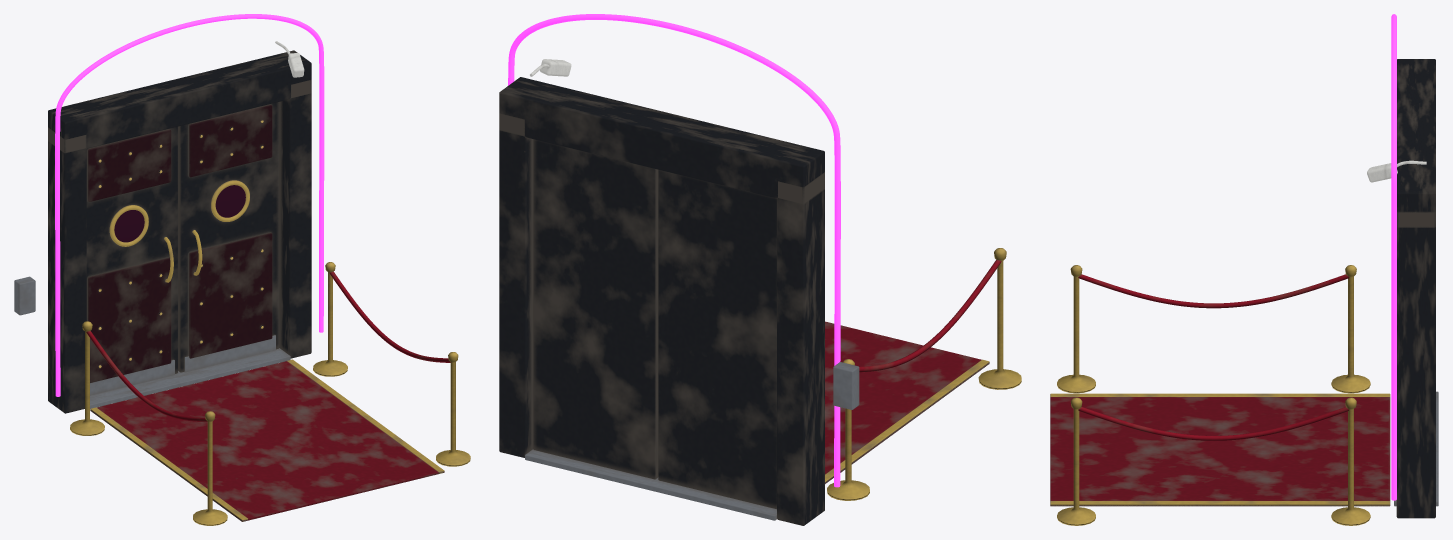
File: klub_drzwi.glb
3 views of the same model, side by side, from view 1: azimuth 30°, elevation 25°; view 2: azimuth 150°, elevation 25°; view 3: azimuth 270°, elevation 25° (orthographic). The views are drawn at different scales.
Visible parts, largest first — view 1: Portal, Chodnik, Slupki, SwiatloNeon; view 2: Portal, Chodnik, SwiatloNeon, Slupki; view 3: Chodnik, Portal, Slupki, SwiatloNeon.
Boxes of the visible parts, box(x1,y1,x2,y2) form: Portal: box(14, 41, 311, 413); Chodnik: box(90, 359, 444, 521); Slupki: box(70, 262, 470, 525); SwiatloNeon: box(55, 14, 324, 396); Portal: box(499, 59, 859, 525); Chodnik: box(825, 321, 989, 483); SwiatloNeon: box(508, 14, 840, 487); Slupki: box(827, 248, 1021, 500); Chodnik: box(1050, 393, 1390, 506); Portal: box(1367, 59, 1438, 518); Slupki: box(1057, 265, 1370, 525); SwiatloNeon: box(1391, 14, 1396, 500).
Size of the model in its own units: 2.93 by 3.42 by 2.97.
4 materials, 3 textured.
